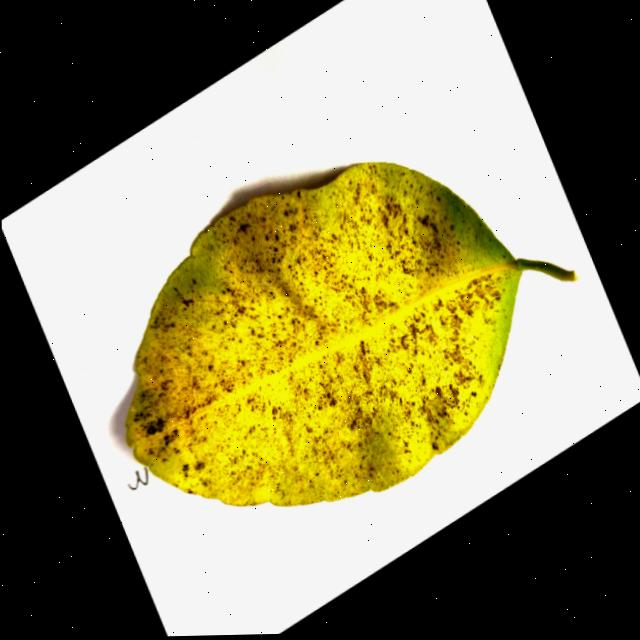melanose: (126, 162, 573, 505)
